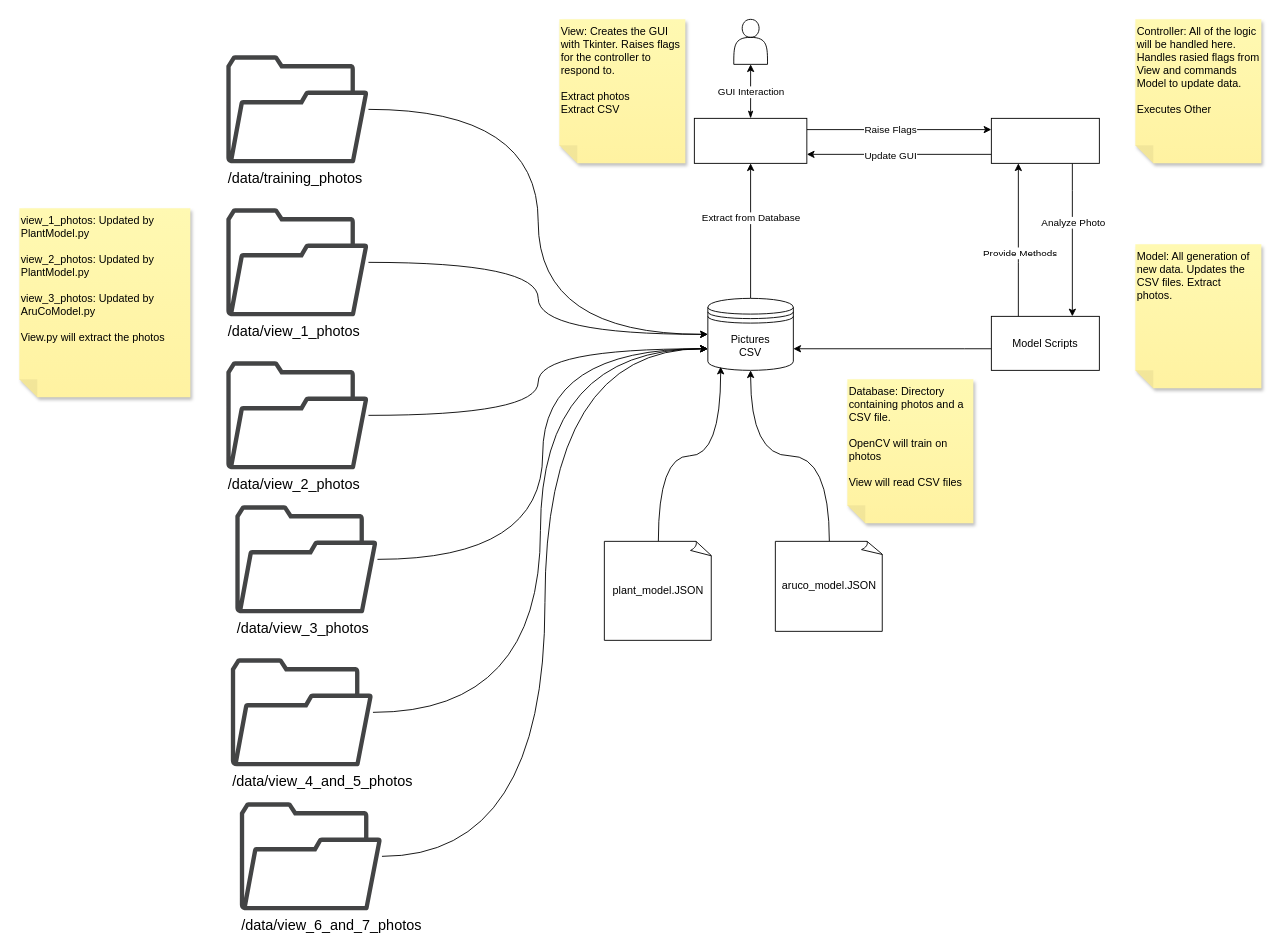
The diagram is 1282 pixels wide and 949 high, and some of its shapes have lost their labels. The shapes that lost their labels are listed below. From the top down, each one's centre as x and y in pixels, then its label:
the point at 750,140: View Script
the point at 1044,140: Controller Script
